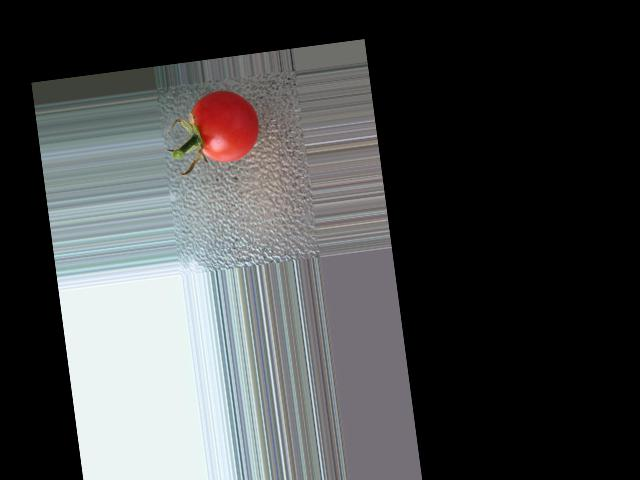tomato: (189, 87, 263, 167)
